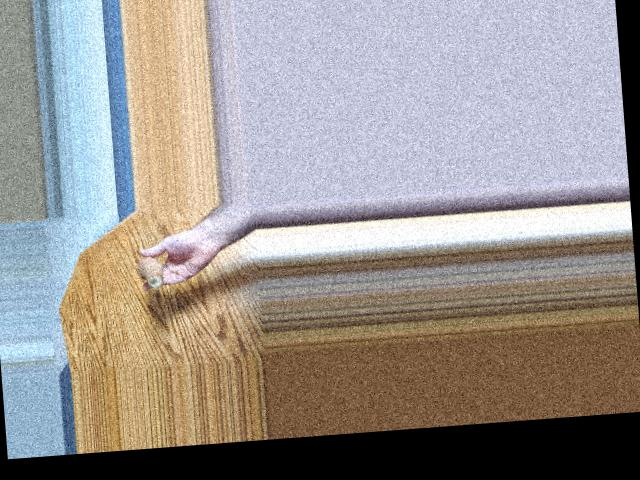sweet_potato: (126, 251, 164, 289)
